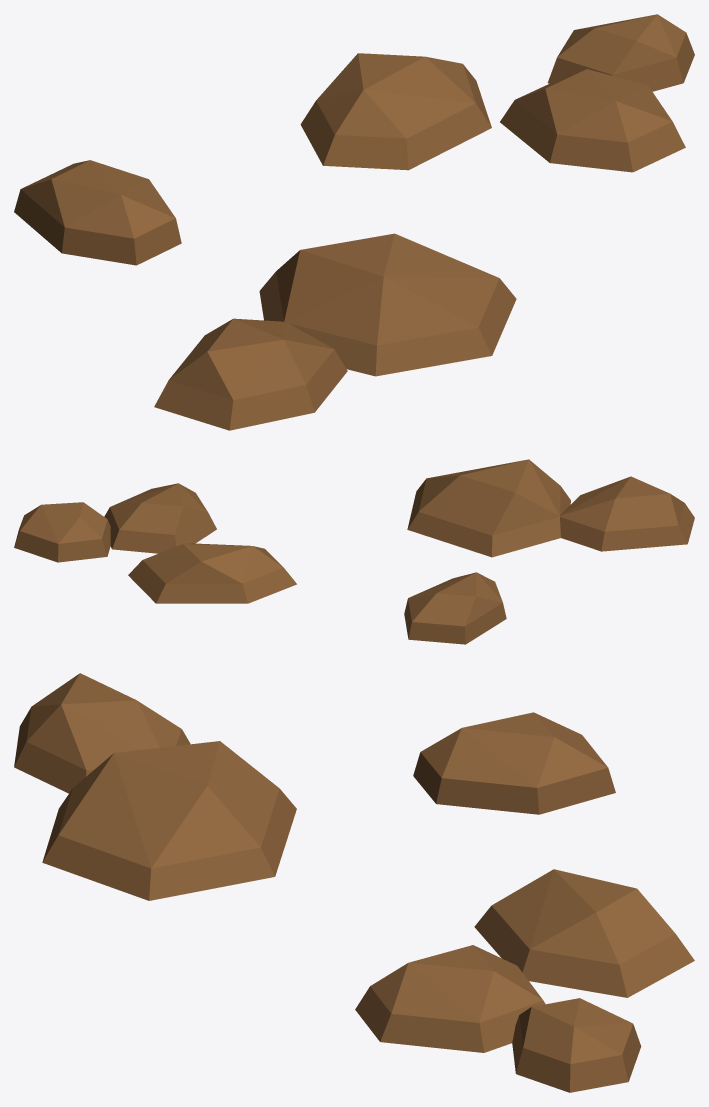
Rendered from rock__pebbles4_dirt_medium.glb.
3 views of the same model, one above another, from view 1: azimuth 30°, elevation 25°; view 2: azimuth 150°, elevation 25°; view 3: azimuth 270°, elevation 25° (orthographic). The views are drawn at different scales.
Parts seen in each view (by area): view 1: pebbles4.dirt.medium; view 2: pebbles4.dirt.medium; view 3: pebbles4.dirt.medium.
Part boxes in pixels (x1=…): pebbles4.dirt.medium: x1=14, y1=14, x2=694, y2=430; pebbles4.dirt.medium: x1=14, y1=459, x2=694, y2=644; pebbles4.dirt.medium: x1=14, y1=673, x2=694, y2=1092.
Bounding box in the file's own units: 2.21 × 0.1985 × 1.67.
Materials: 1 (1 with a texture image).
